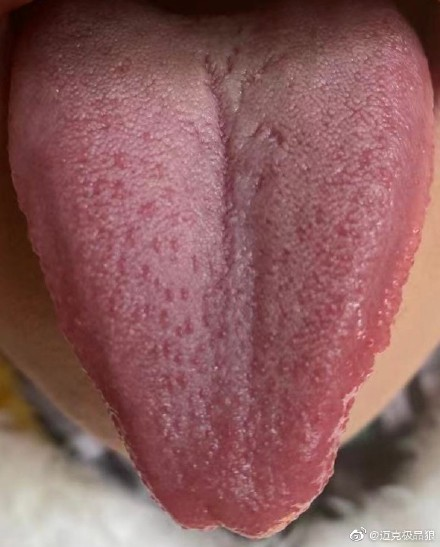hongshe: (8, 1, 435, 539)
xinfeiao: (187, 514, 256, 540)
